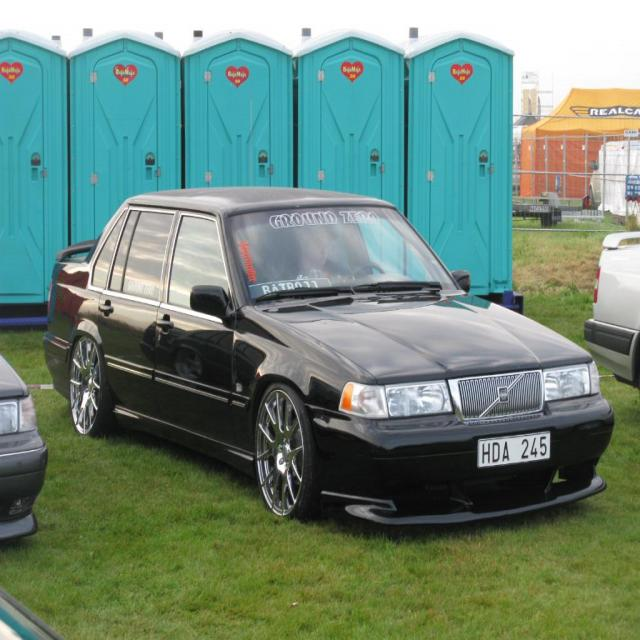other: (41, 186, 616, 524), (582, 228, 639, 397), (0, 356, 50, 548)
